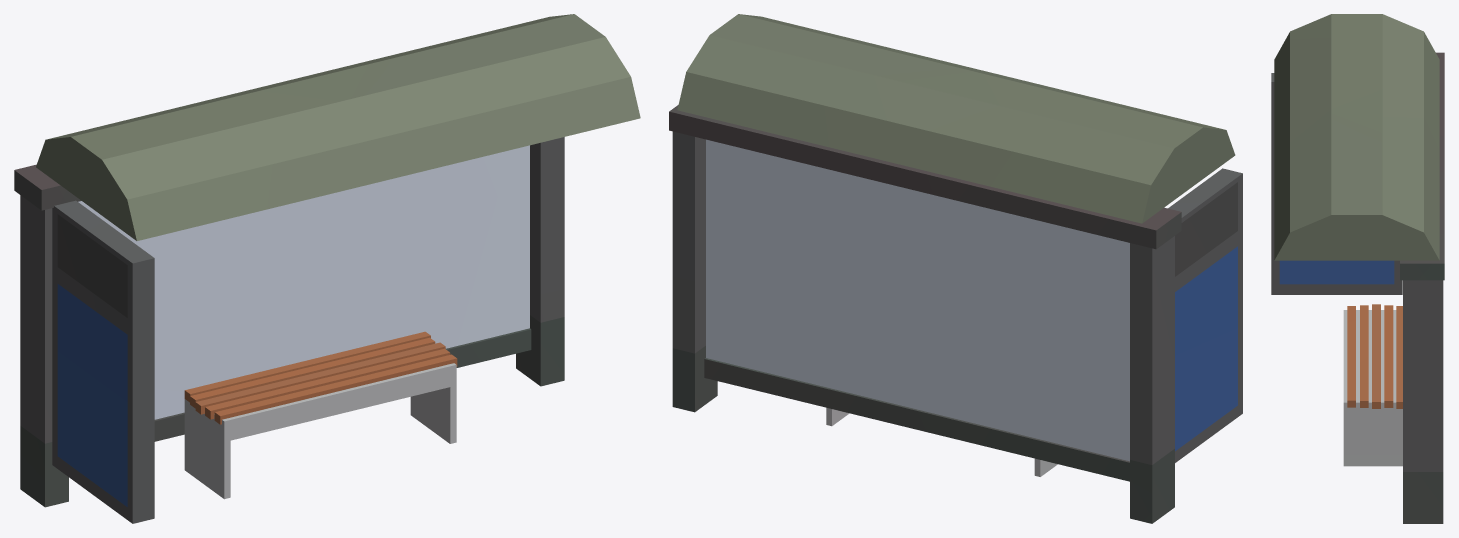
File: busstop_3.glb
3 renders of one model, left to right at view 1: azimuth 30°, elevation 25°; view 2: azimuth 150°, elevation 25°; view 3: azimuth 270°, elevation 25°, orthographic. The views are drawn at different scales.
Visible parts, largest first — view 1: Bus Stop; view 2: Bus Stop; view 3: Bus Stop.
Boxes of the visible parts, x1,y1,x2,y2 form: Bus Stop: (14,14,640,523); Bus Stop: (669,14,1242,523); Bus Stop: (1271,14,1444,523).
Size of the model in its own units: 1.22 by 0.8303 by 0.4244.
1 material, 1 textured.
